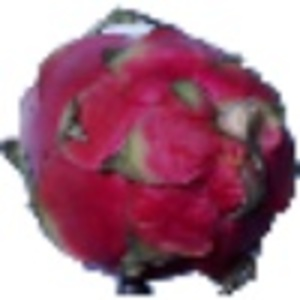pitaia: (1, 3, 300, 299)
